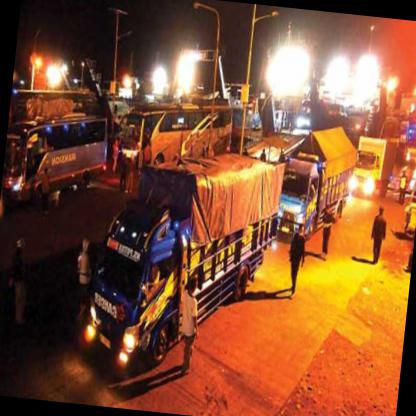truck: (82, 205, 186, 372), (273, 158, 322, 245)
